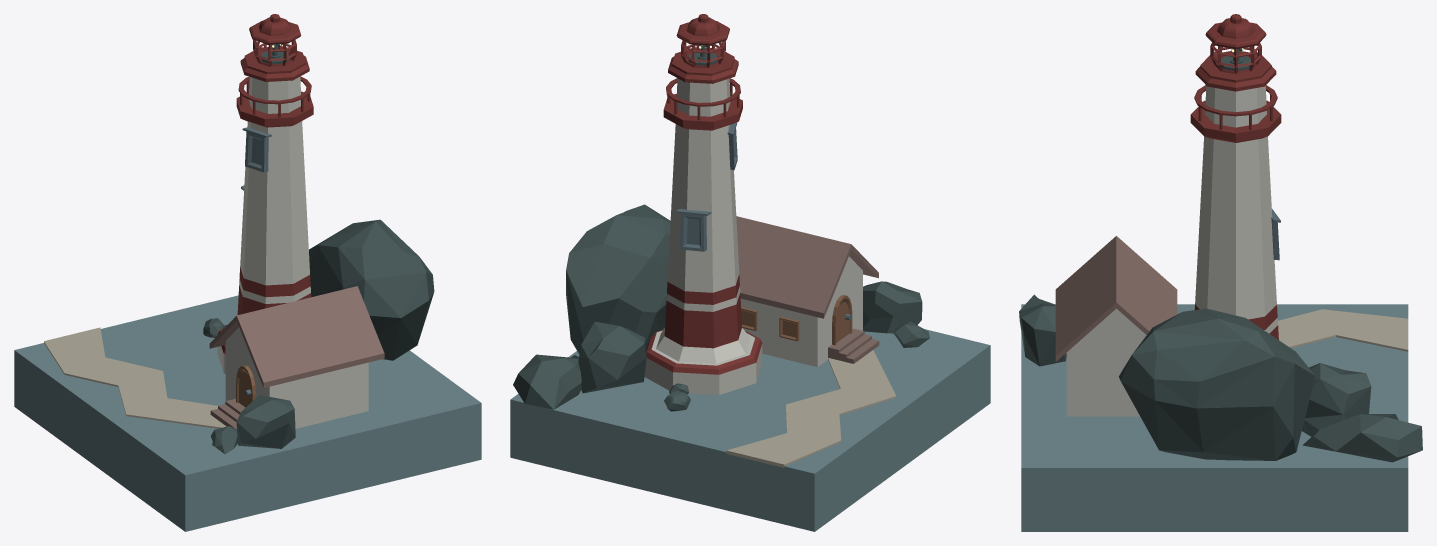
File: 灯塔导出.fbx
The picture shows the model from 3 angles, left to right: view 1: azimuth 30°, elevation 25°; view 2: azimuth 150°, elevation 25°; view 3: azimuth 270°, elevation 25°; orthographic projection. The views are drawn at different scales.
Parts seen in each view (by area): view 1: 底座, 圆环, 立方体.001, 立方体.006, 平面, 立方体, 立方体.010, 圆环.001, 圆环.002, 圆环.004, 柱体, 立方体.002 (+2 smaller); view 2: 底座, 圆环, 立方体.006, 立方体.001, 平面, 立方体, 立方体.007, 立方体.009, 立方体.010, 圆环.001, 圆环.002, 立方体.003 (+5 smaller); view 3: 底座, 立方体.006, 圆环, 立方体.001, 立方体, 立方体.009, 平面, 立方体.007, 立方体.010, 圆环.001, 圆环.002, 柱体 (+1 smaller).
Boxes of the visible parts, x1,y1,x2,y2 form: 底座: (14,295,481,531); 圆环: (217,46,311,373); 立方体.001: (209,286,384,387); 立方体.006: (309,219,434,360); 平面: (44,327,226,428); 立方体: (225,327,368,428); 立方体.010: (236,395,295,448); 圆环.001: (236,91,313,127); 圆环.002: (249,14,300,44); 圆环.004: (245,131,268,172); 柱体: (253,40,296,66); 立方体.002: (236,365,255,407); 底座: (510,328,990,531); 圆环: (644,47,762,394); 立方体.006: (566,204,670,354); 立方体.001: (736,216,878,318); 平面: (726,350,896,467); 立方体: (740,256,862,366); 立方体.007: (578,321,646,393); 立方体.009: (513,354,581,409); 立方体.010: (863,281,922,333); 圆环.001: (663,93,742,130); 圆环.002: (676,14,729,45); 立方体.003: (828,328,879,363); 底座: (1021,304,1408,531); 立方体.006: (1119,308,1315,460); 圆环: (1194,51,1278,339); 立方体.001: (1055,236,1177,361); 立方体: (1066,308,1146,416); 立方体.009: (1302,414,1422,462); 平面: (1278,309,1408,351); 立方体.007: (1302,363,1371,436); 立方体.010: (1019,294,1066,366); 圆环.001: (1190,100,1281,142); 圆环.002: (1205,14,1266,48); 柱体: (1210,42,1261,74).
Size of the model in its own units: 508 by 627 by 505.
